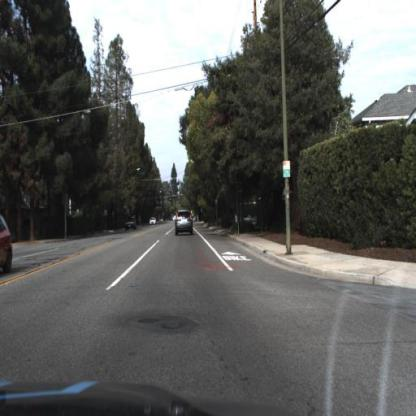car: (175, 206, 196, 238), (126, 214, 137, 232)
